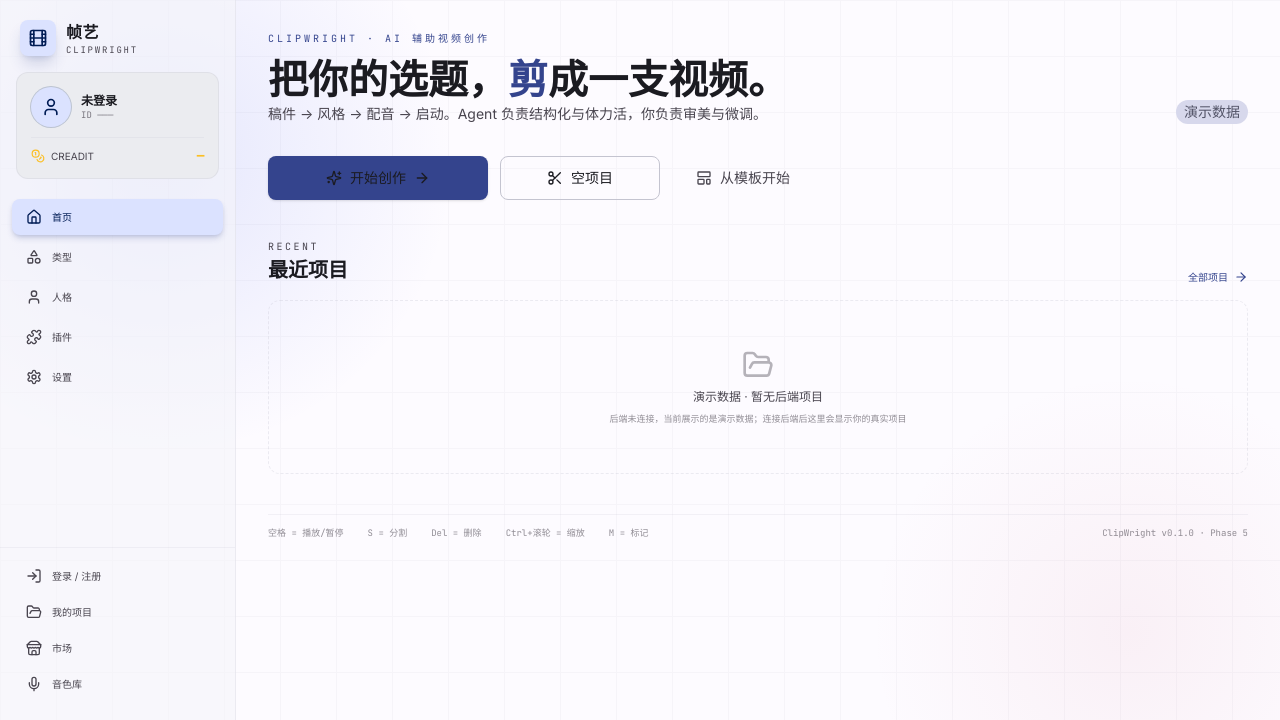
Scenario: 图一：左侧导航切换右侧内容区 › 点击「设置」→ 显示偏好设置界面（BUG1 修复：不再跳创作表单）
The width and height of the screenshot is (1280, 720).
Step 1. Click the button "设置" → click(118, 377), box x1=12 y1=359 x2=223 y2=395
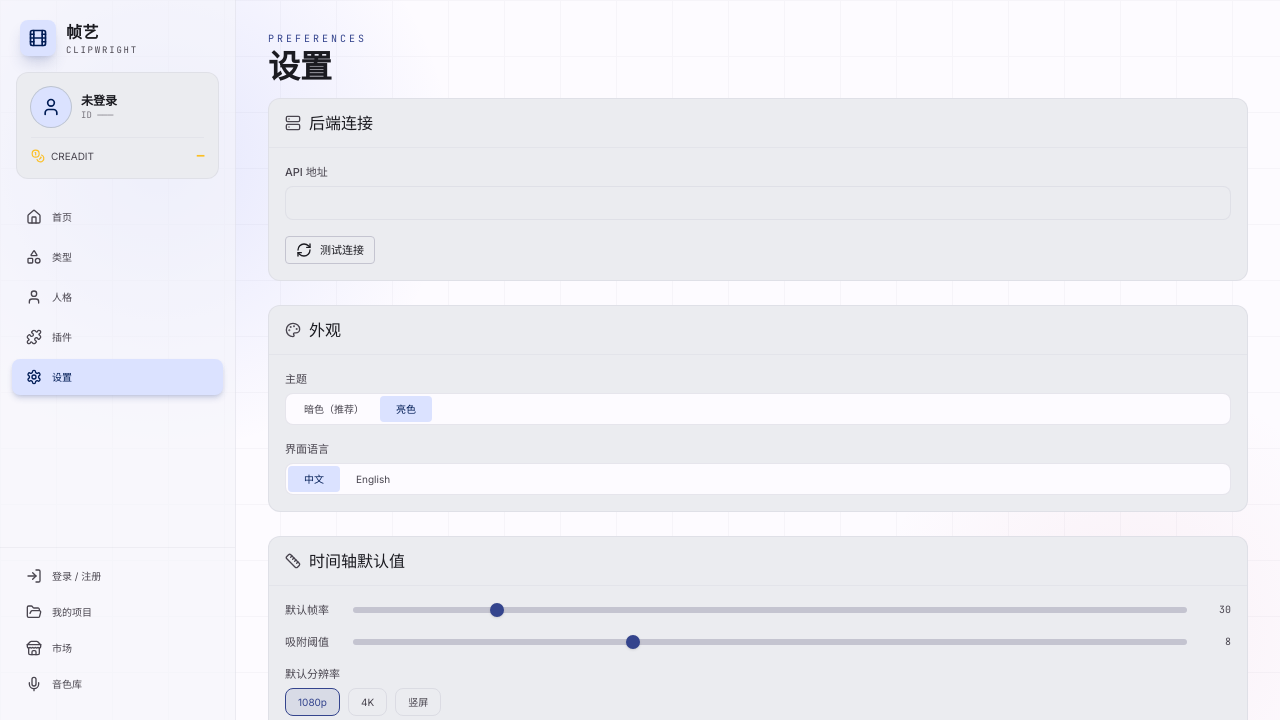
Check: the heading "外观" is shown, box x1=309 y1=318 x2=341 y2=342
Check: the text "主题" is shown, box x1=285 y1=372 x2=307 y2=386
Check: the heading "时间轴默认值" is shown, box x1=309 y1=549 x2=405 y2=573
